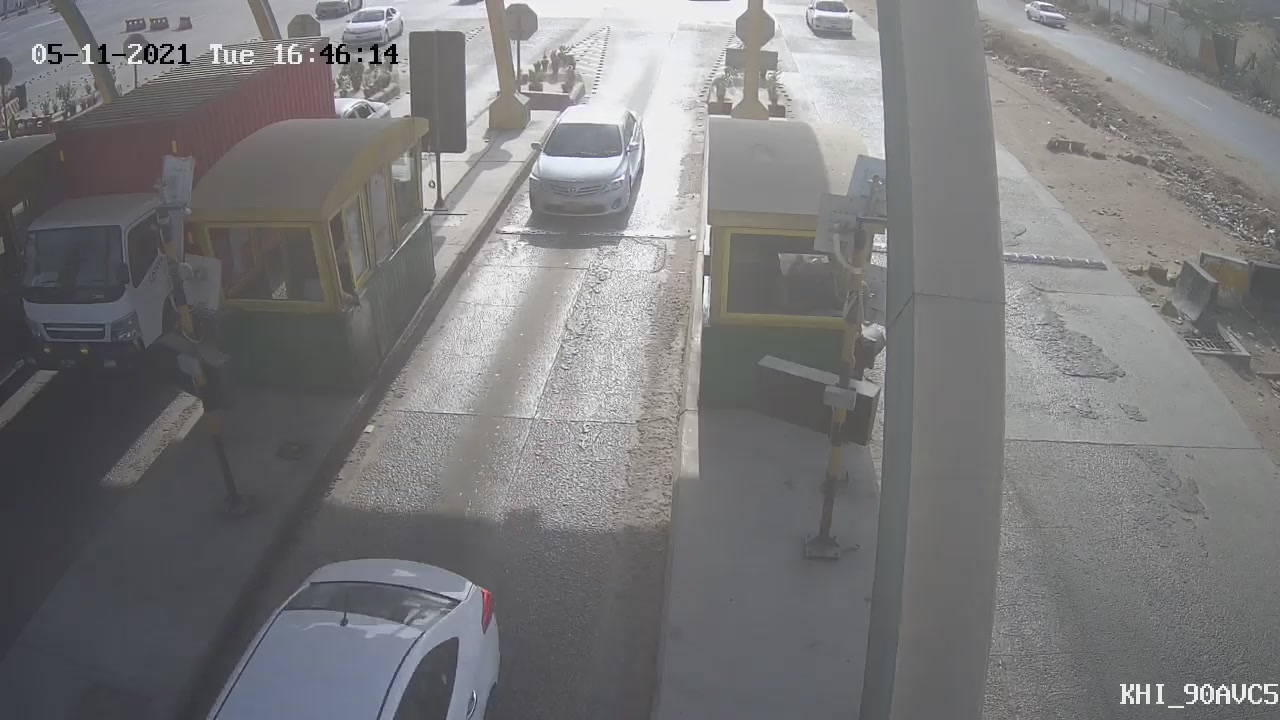F1: (507, 91, 655, 239)
